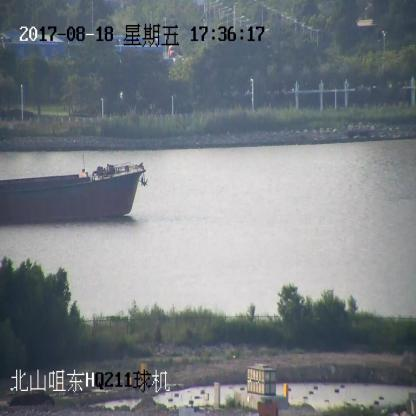Bulk Carrier: (0, 160, 146, 224)
